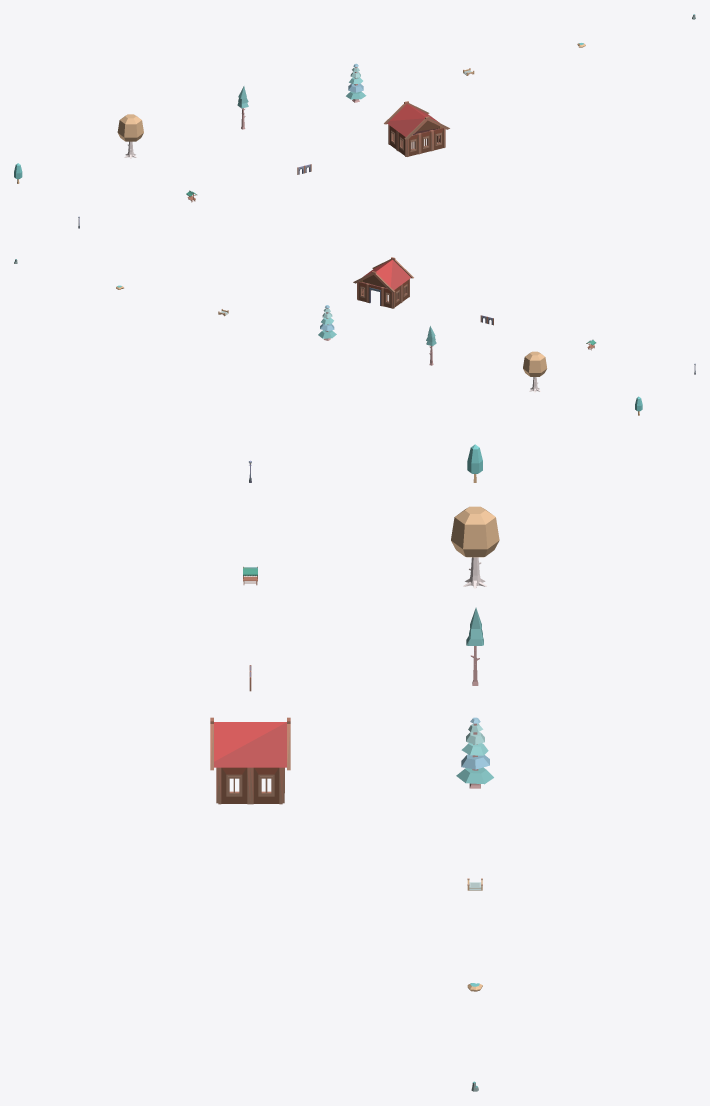
Rendered from BladeForestStyleReview.glb.
The picture shows the model from 3 angles, top to bottom: view 1: azimuth 30°, elevation 25°; view 2: azimuth 150°, elevation 25°; view 3: azimuth 270°, elevation 25°; orthographic projection. The views are drawn at different scales.
Parts seen in each view (by area): view 1: Cottage, GoldenOak, SnowPine; view 2: Cottage, GoldenOak, SnowPine; view 3: Cottage, GoldenOak, SnowPine.
Part boxes in pixels (x1,y1,x2,y2): Cottage: (384,101,449,156); GoldenOak: (117,114,143,158); SnowPine: (346,63,366,102); Cottage: (353,257,413,308); GoldenOak: (523,351,547,392); SnowPine: (318,305,336,340); Cottage: (210,717,290,804); GoldenOak: (451,506,499,588); SnowPine: (456,717,493,788).
Bounding box in the file's own units: 96.67 × 5.8 × 19.3.
1 material, 1 textured.
